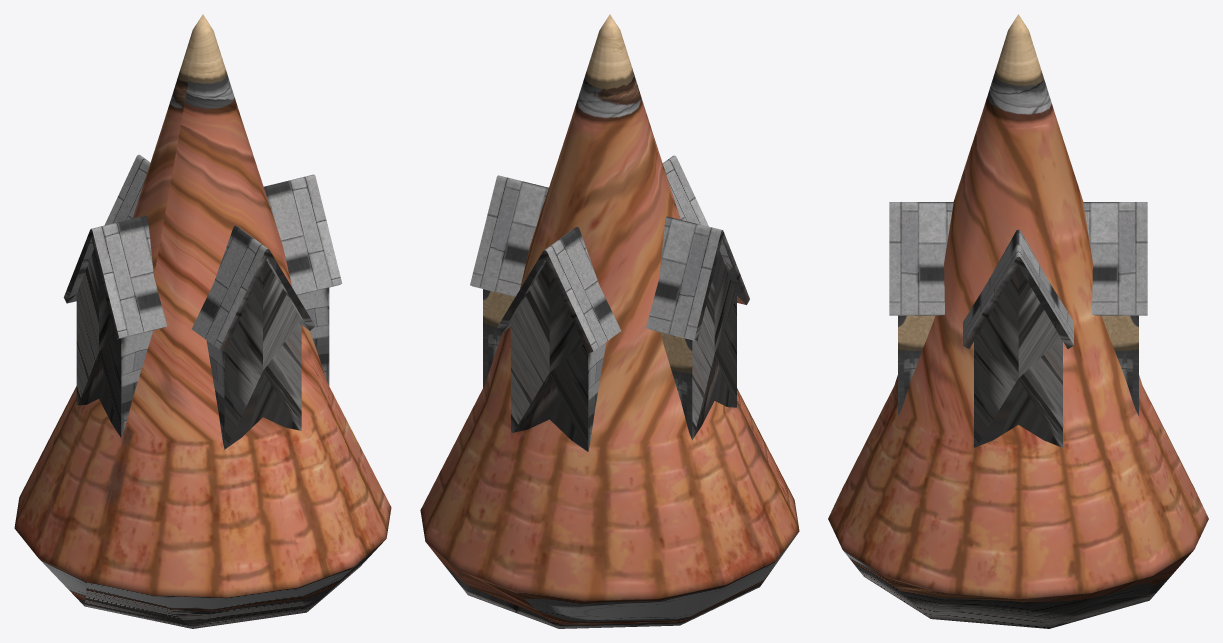
Rendered from sb_obj_outdoor001_Castle01_CircleWallTop01_col.fbx.
3 renders of one model, left to right at view 1: azimuth 30°, elevation 25°; view 2: azimuth 150°, elevation 25°; view 3: azimuth 270°, elevation 25°, orthographic.
Visible parts, largest first — view 1: sb_obj_outdoor001_Castle01_CircleWallTop01_col; view 2: sb_obj_outdoor001_Castle01_CircleWallTop01_col; view 3: sb_obj_outdoor001_Castle01_CircleWallTop01_col.
Part boxes in pixels (x1,y1,x2,y2): sb_obj_outdoor001_Castle01_CircleWallTop01_col: (14,14,391,628); sb_obj_outdoor001_Castle01_CircleWallTop01_col: (420,14,799,628); sb_obj_outdoor001_Castle01_CircleWallTop01_col: (828,14,1208,628).
Size of the model in its own units: 3.72 by 5.92 by 3.72.
